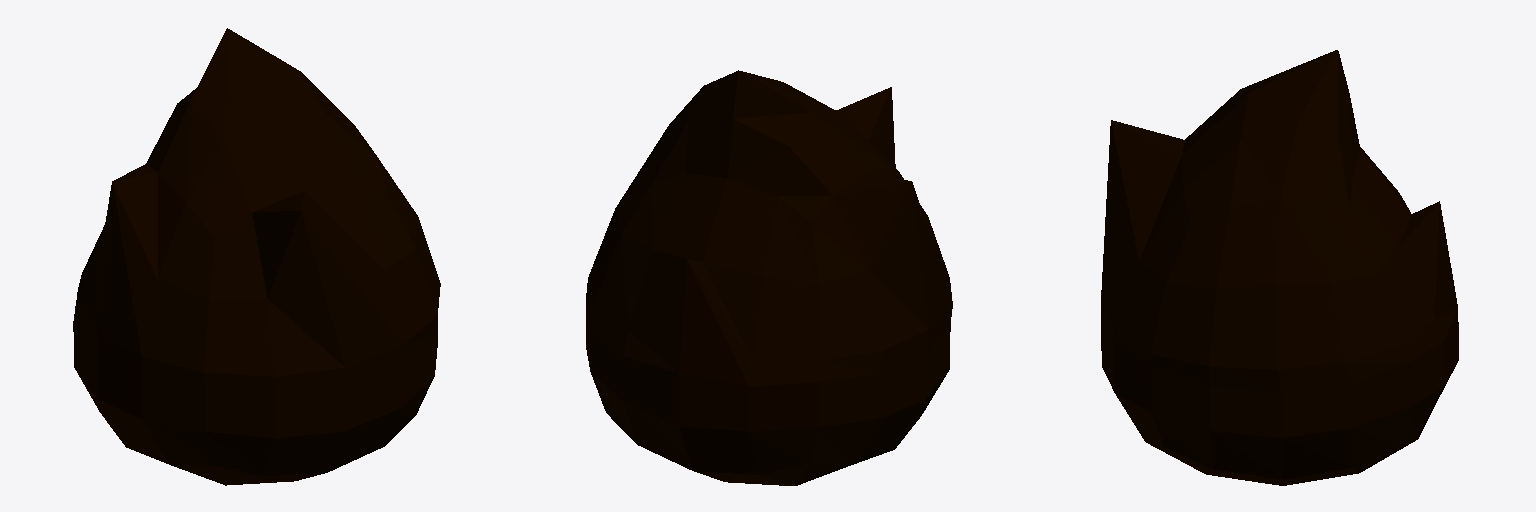
Rendered from flamess.obj.
3 renders of one model, left to right at view 1: azimuth 30°, elevation 25°; view 2: azimuth 150°, elevation 25°; view 3: azimuth 270°, elevation 25°, orthographic.
Visible parts, largest first — view 1: Cube.002; view 2: Cube.002; view 3: Cube.002.
Boxes of the visible parts, <box> form: Cube.002: <box>73,28,440,485</box>; Cube.002: <box>586,70,952,485</box>; Cube.002: <box>1101,50,1458,485</box>.
Bounding box in the file's own units: 1.43 × 1.77 × 1.39.